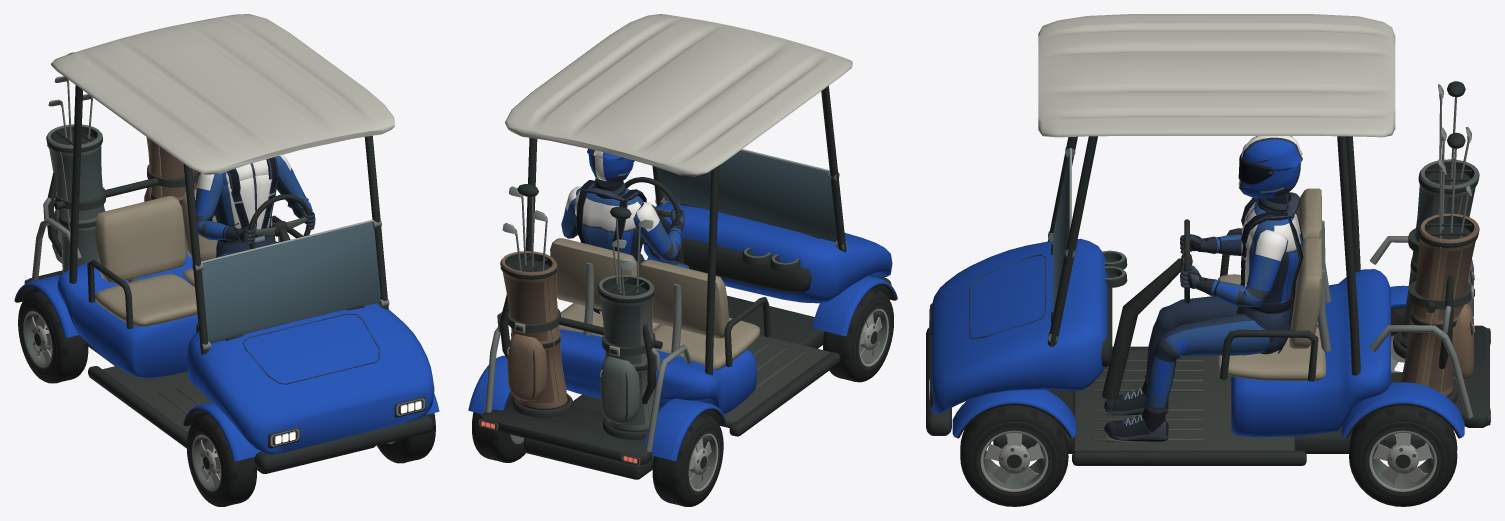
Rendered from golfcart_real.glb.
3 renders of one model, left to right at view 1: azimuth 30°, elevation 25°; view 2: azimuth 150°, elevation 25°; view 3: azimuth 270°, elevation 25°, orthographic. The views are drawn at different scales.
Parts seen in each view (by area): view 1: body, wheelFR, wheelRR, torso, wheelFL, steeringWheel; view 2: body, wheelRR, wheelFR, torso, wheelRL, head, steeringWheel; view 3: body, wheelFL, wheelRL, torso, head.
Part boxes in pixels (x1,y1,x2,y2): body: (14,14,439,473); wheelFR: (186,414,256,506); wheelRR: (18,291,88,383); torso: (214,157,278,257); wheelFL: (377,413,435,463); steeringWheel: (248,194,310,249); body: (468,14,897,479); wheelRR: (652,413,723,506); wheelFR: (823,288,893,382); torso: (574,178,646,313); wheelRL: (472,393,525,462); head: (587,149,634,181); steeringWheel: (624,177,680,245); body: (926,14,1490,465); wheelFL: (960,405,1068,506); wheelRL: (1349,405,1457,506); torso: (1236,192,1303,353); head: (1238,136,1302,198).
Size of the model in its own units: 1.2 by 1.8 by 2.4.
